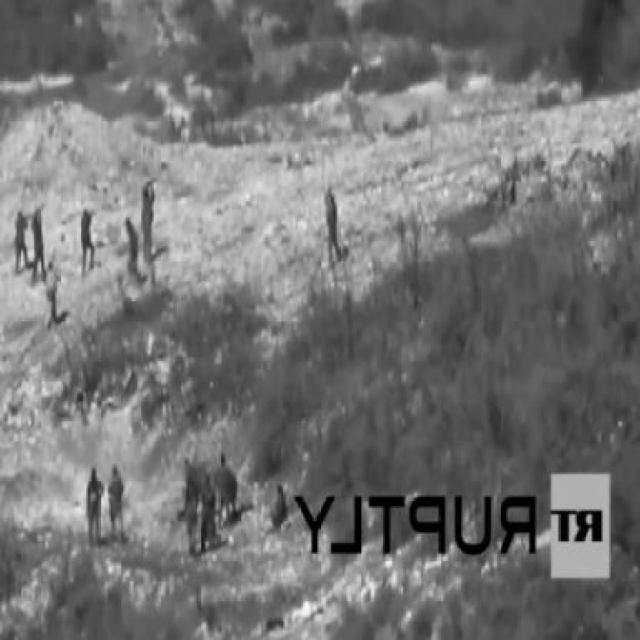Person: (181, 473, 203, 551), (217, 451, 239, 525), (110, 461, 130, 538), (87, 463, 107, 539), (327, 181, 346, 259), (81, 203, 101, 276), (144, 180, 161, 265), (203, 472, 221, 547), (14, 206, 33, 277), (32, 210, 50, 284), (46, 261, 65, 323), (272, 478, 293, 529), (127, 213, 141, 281)
